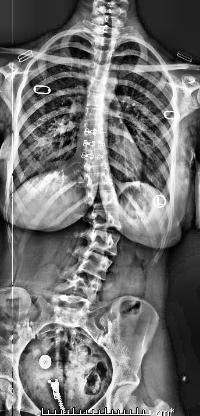Vertebrae: (58, 270, 106, 297), (75, 253, 117, 277), (82, 230, 122, 254), (50, 294, 91, 316), (86, 209, 123, 232), (84, 187, 120, 207), (77, 154, 112, 172), (76, 136, 110, 154), (80, 166, 114, 184), (76, 121, 108, 139), (78, 106, 108, 122), (84, 76, 112, 92), (81, 91, 109, 107), (87, 61, 113, 76), (92, 48, 114, 62), (94, 36, 118, 48)
